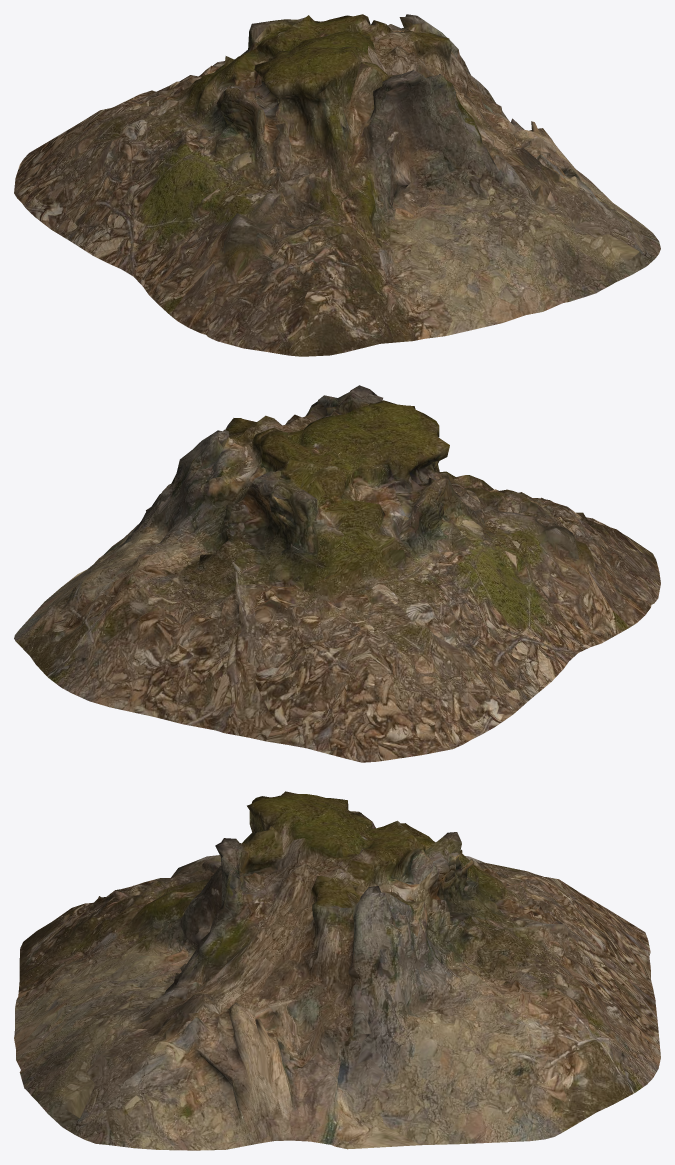
Rendered from tree_stump_01.glb.
3 renders of one model, top to bottom at view 1: azimuth 30°, elevation 25°; view 2: azimuth 150°, elevation 25°; view 3: azimuth 270°, elevation 25°, orthographic. The views are drawn at different scales.
Visible parts, largest first — view 1: tree_stump_01; view 2: tree_stump_01; view 3: tree_stump_01.
Boxes of the visible parts, box(x1,y1,x2,y2) form: tree_stump_01: box(14, 14, 660, 356); tree_stump_01: box(14, 385, 660, 762); tree_stump_01: box(14, 791, 660, 1150).
Bounding box in the file's own units: 1.42 × 0.5722 × 1.59.
Materials: 1 (1 with a texture image).
